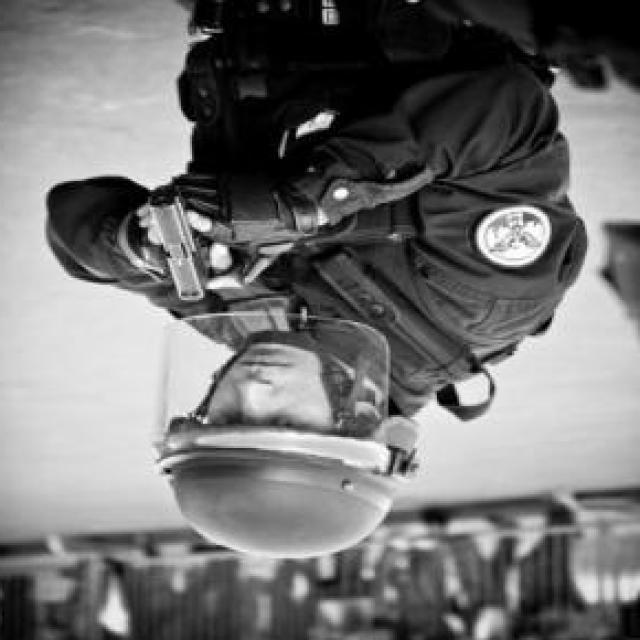pistol: (148, 179, 215, 300)
